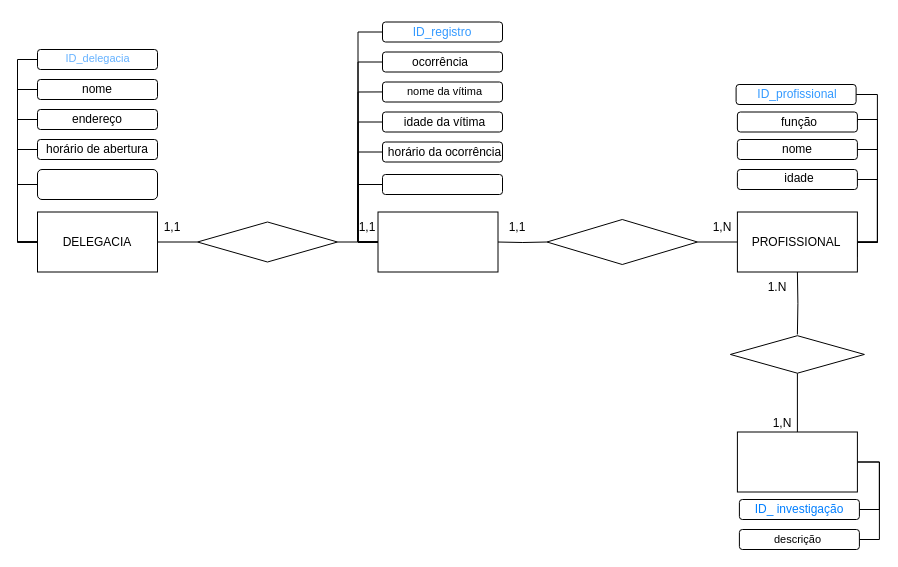
This 898x567 diagram has some shape labels left out. Each missing label, with the centre of its shape:
faz: point 796,354
horário de fechamento: point 97,184
INVESTIGAÇÃO: point 796,461
local da ocorrência: point 442,184
possui: point 267,241
recebe: point 622,241
REGISTRO DE DENUNCIA: point 437,241
